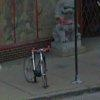Bicycle: (21, 46, 53, 88)
